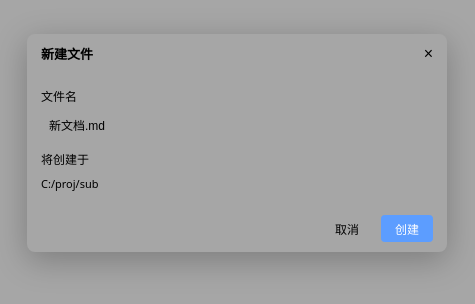
Scenario: v0.8.4 NewFileDialog 组件 › 非法字符不提交并提示
In the field labelled "文件名": (237, 125) [41, 112, 433, 138], type "a/b"
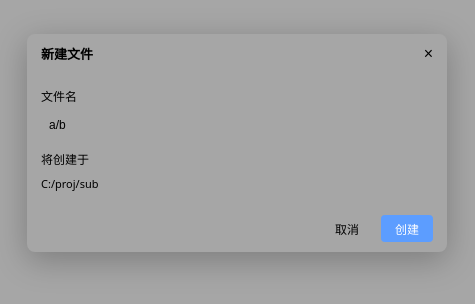
Click the button "创建": (407, 228) [381, 215, 433, 242]
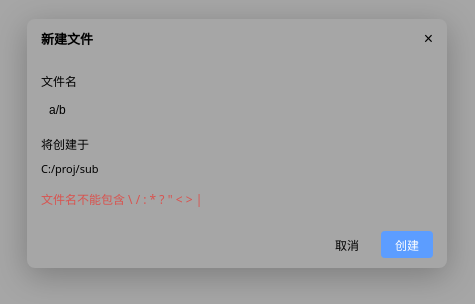
Check: the element with class "newfile-overlay" shows "不能包含", box [41, 190, 202, 207]
